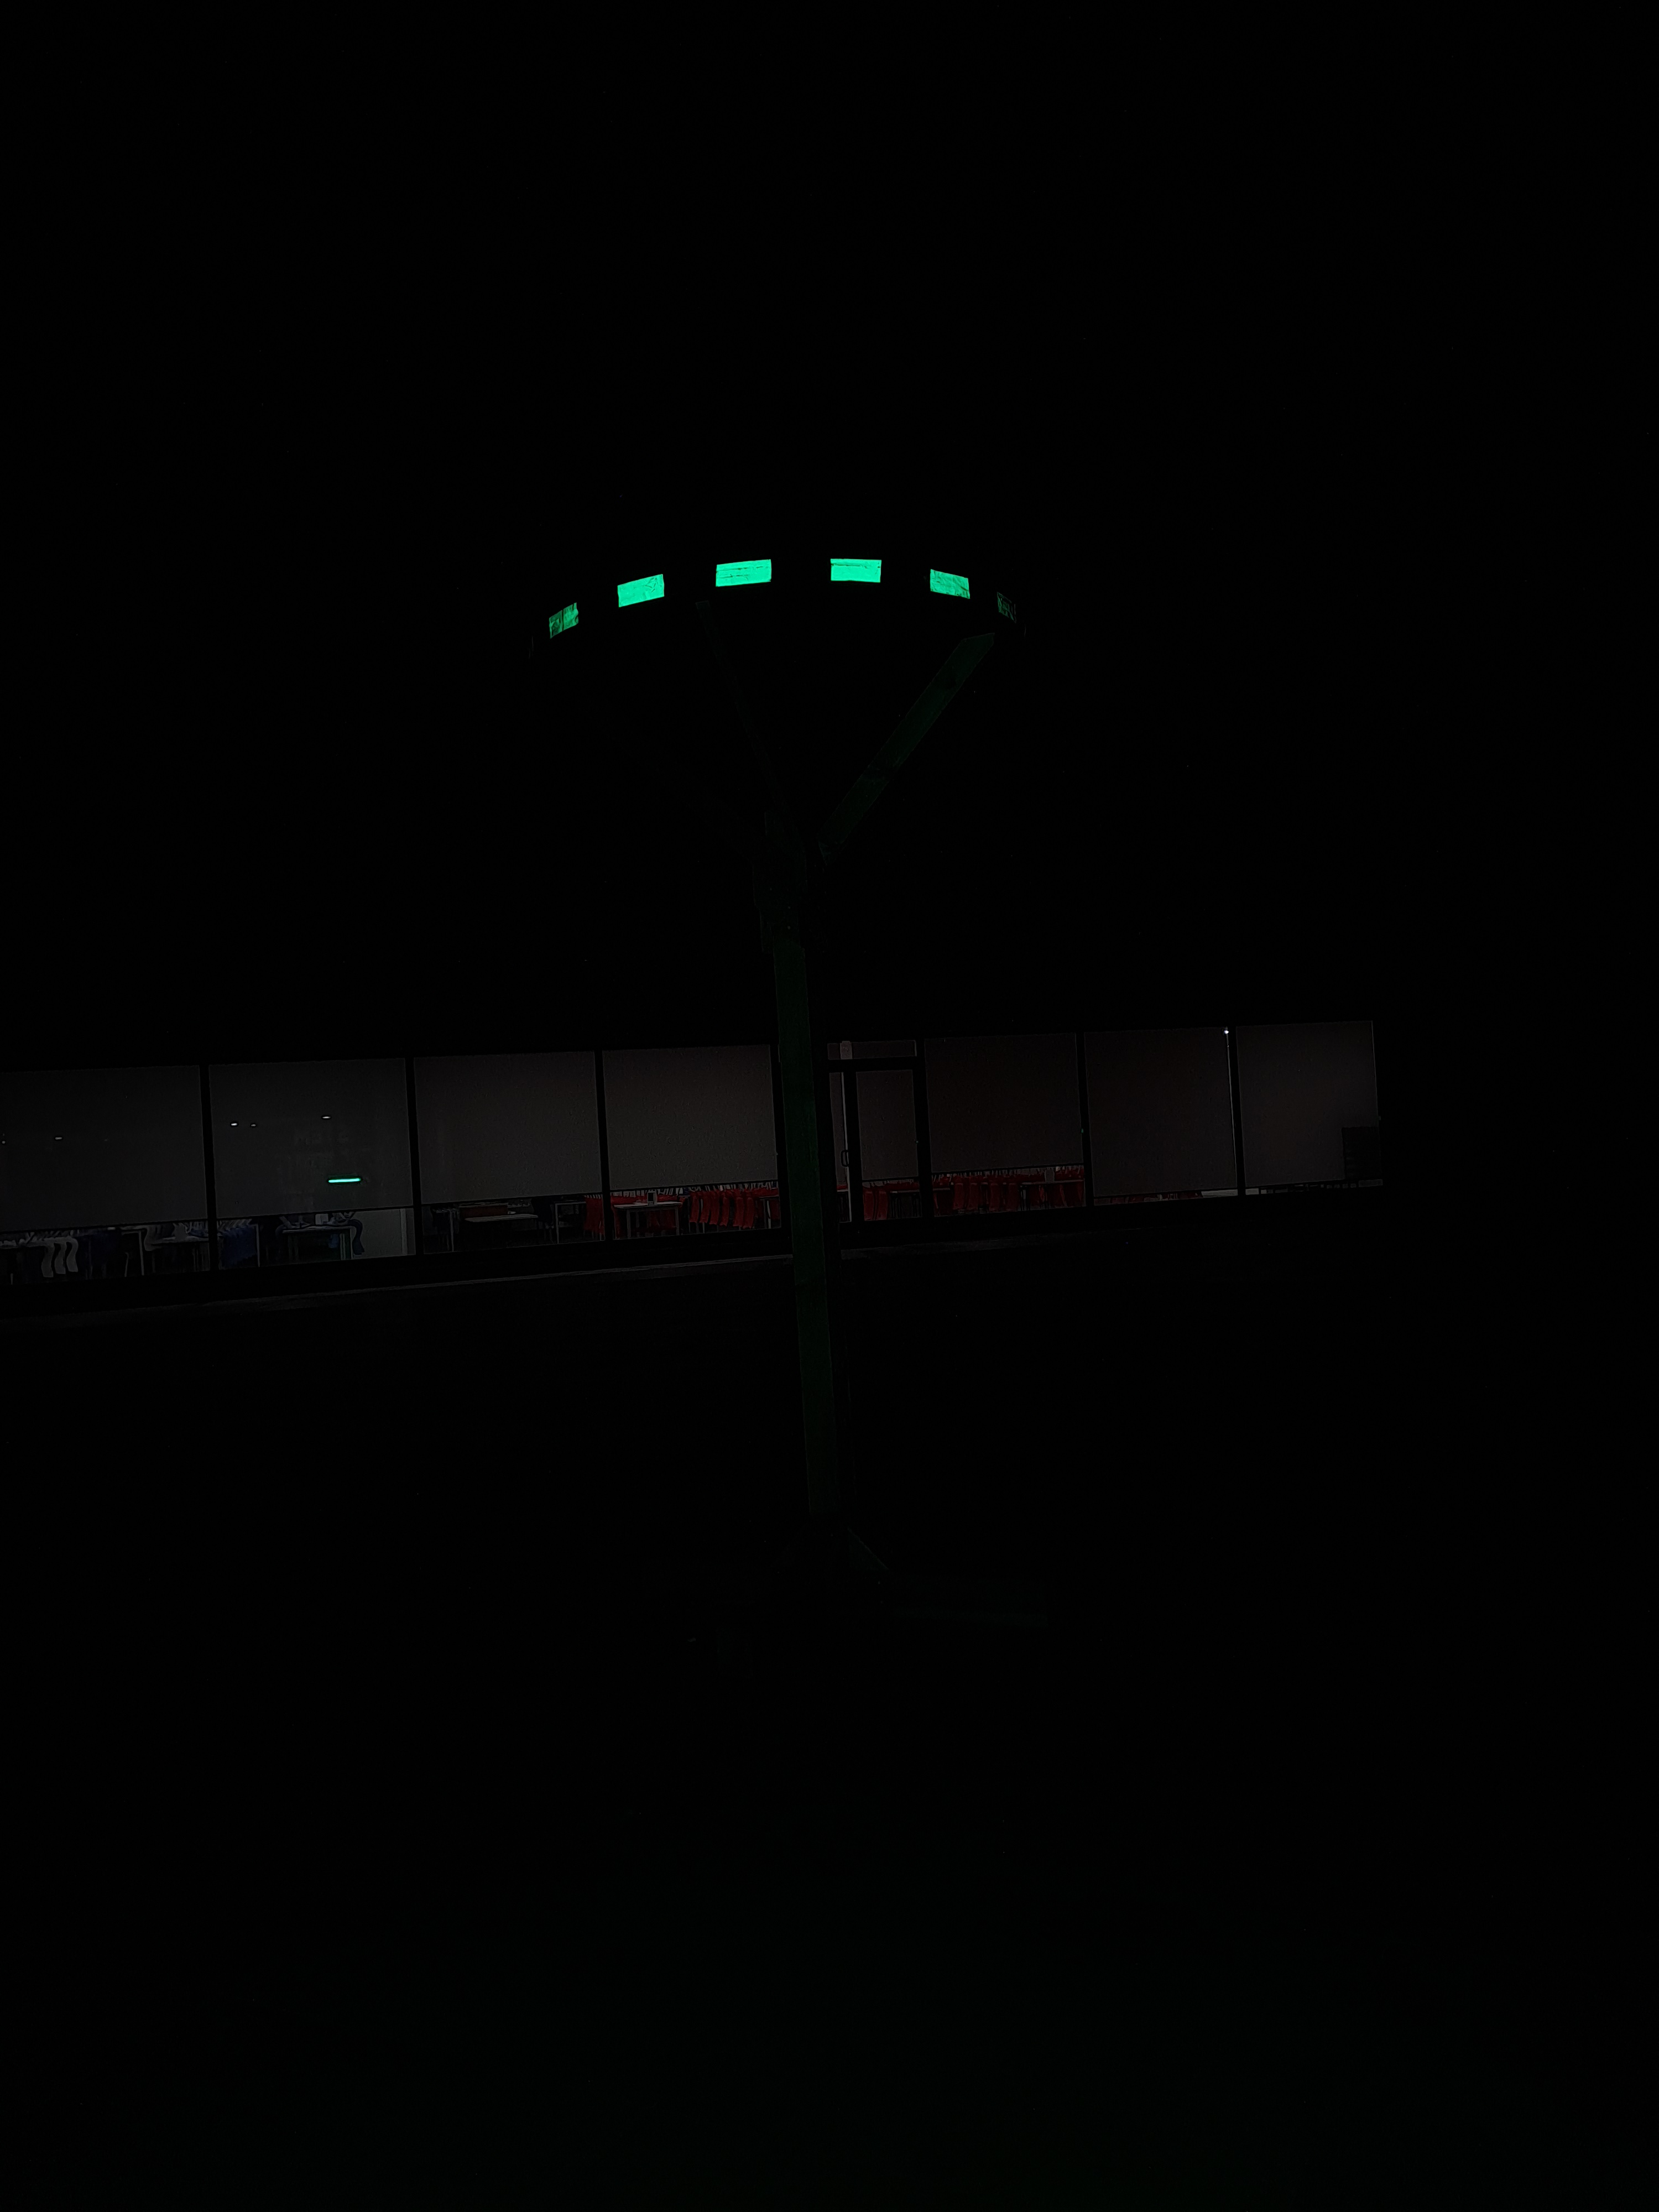hoop: (533, 550, 1019, 646)
